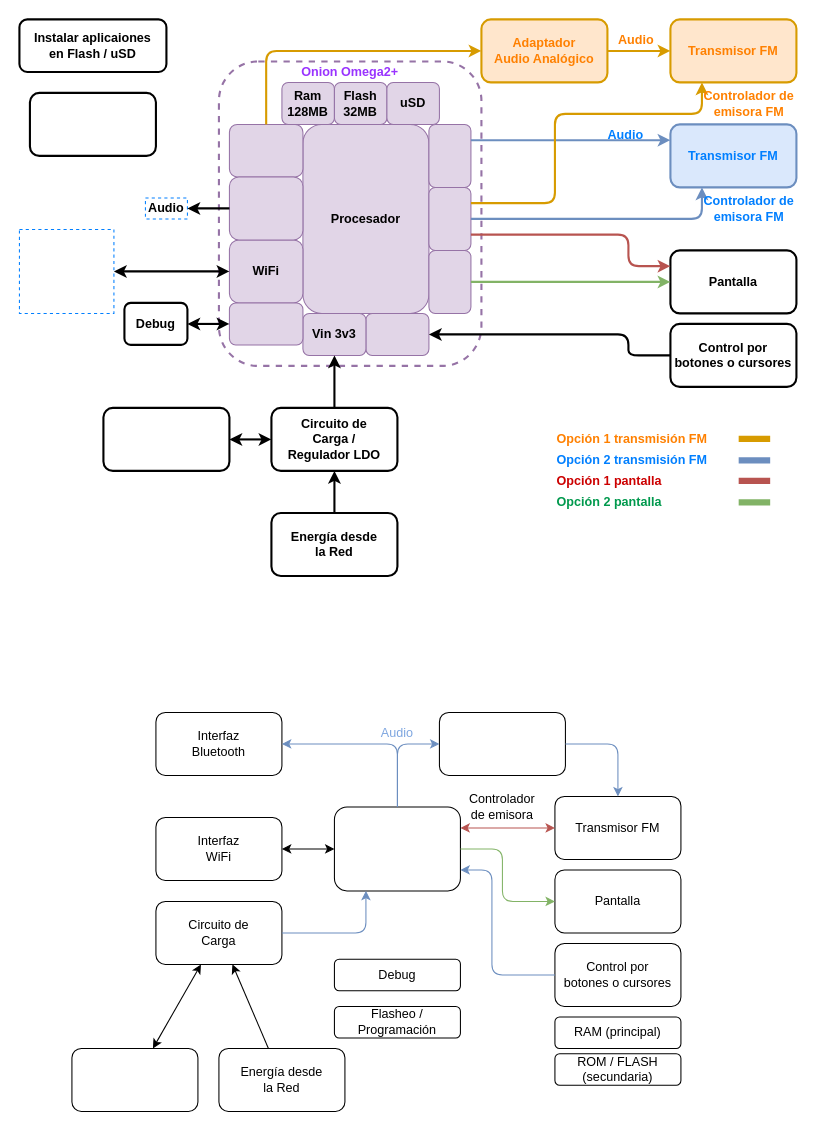
This 824x1130 diagram has some shape labels left out. The box of each missing label's shape, as (x1, y1, x2, y2) in pixels:
Audio Analógico/Digital: (438, 711, 565, 775)
Batería: (71, 1047, 198, 1111)
Batería LIPo / 18650: (102, 406, 230, 471)
Bluetooth: (228, 176, 303, 240)
Comunicación con Clientes u otros servidores: (18, 228, 114, 313)
Flashing firmware from bootloader WebRecovery USB storage: (28, 91, 156, 156)
gpio: (365, 312, 429, 355)
i2c: (428, 186, 471, 250)
i2s: (428, 123, 471, 187)
Procesador / bus / ICE / mmu: (333, 806, 460, 891)
spi: (428, 249, 471, 313)
UART: (228, 302, 303, 345)
USB: (228, 123, 303, 177)
